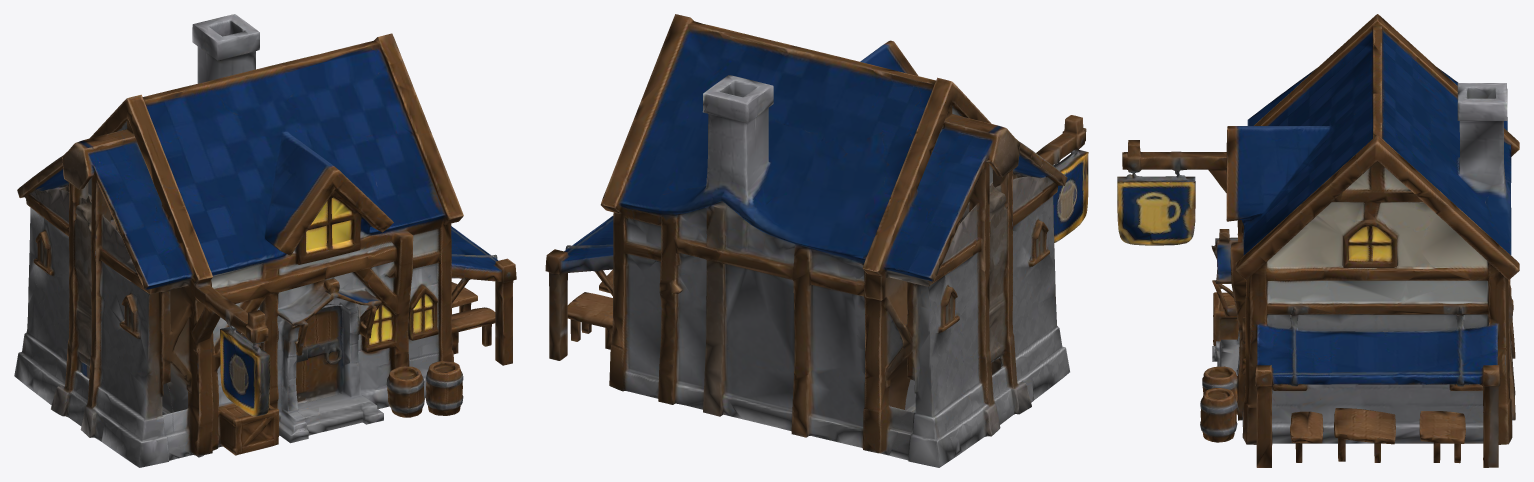
Rendered from taverna.glb.
3 views of the same model, side by side, from view 1: azimuth 30°, elevation 25°; view 2: azimuth 150°, elevation 25°; view 3: azimuth 270°, elevation 25° (orthographic). The views are drawn at different scales.
Bounding box in the file's own units: 1.88 × 1.44 × 1.7.
1 material, 1 textured.
